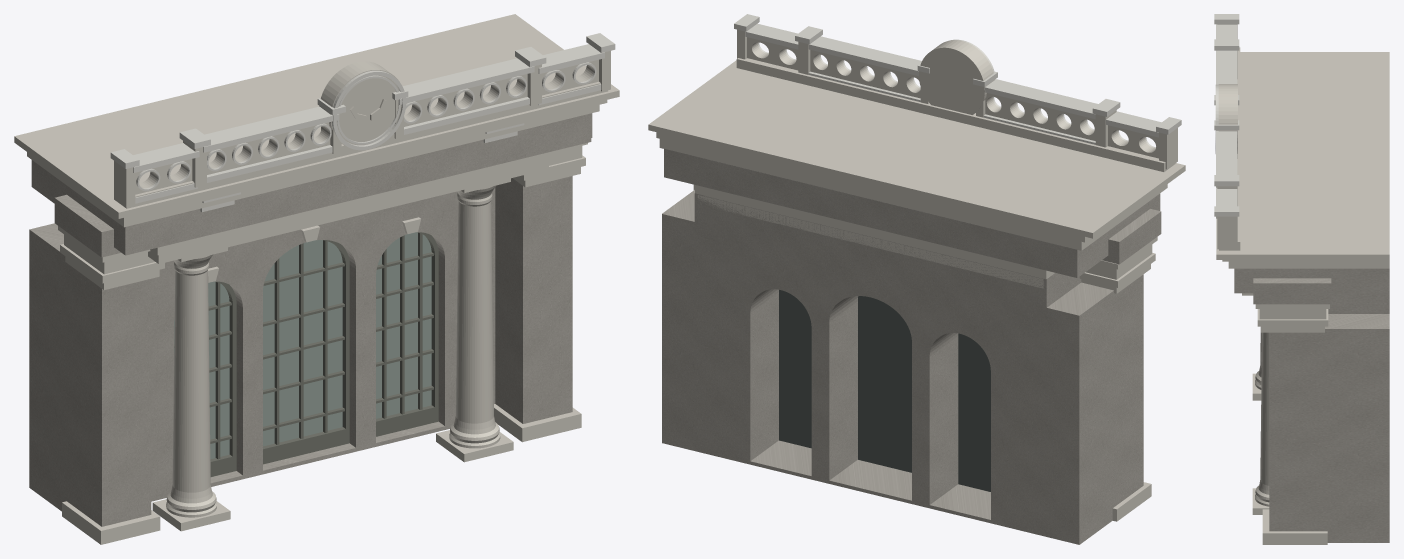
The model's file is huangpu-salt-industry-bank-entrance-raw.glb.
3 renders of one model, left to right at view 1: azimuth 30°, elevation 25°; view 2: azimuth 150°, elevation 25°; view 3: azimuth 270°, elevation 25°, orthographic. The views are drawn at different scales.
Parts seen in each view (by area): view 1: 盐业大楼北京东路280号门罩与石栏; view 2: 盐业大楼北京东路280号门罩与石栏; view 3: 盐业大楼北京东路280号门罩与石栏.
Boxes of the visible parts, left/top/right/bottom form: 盐业大楼北京东路280号门罩与石栏: left=14, top=14, right=619, bottom=544; 盐业大楼北京东路280号门罩与石栏: left=648, top=14, right=1185, bottom=544; 盐业大楼北京东路280号门罩与石栏: left=1214, top=14, right=1389, bottom=544.
Bounding box in the file's own units: 8.28 × 6.87 × 3.03.
6 materials, 1 textured.
